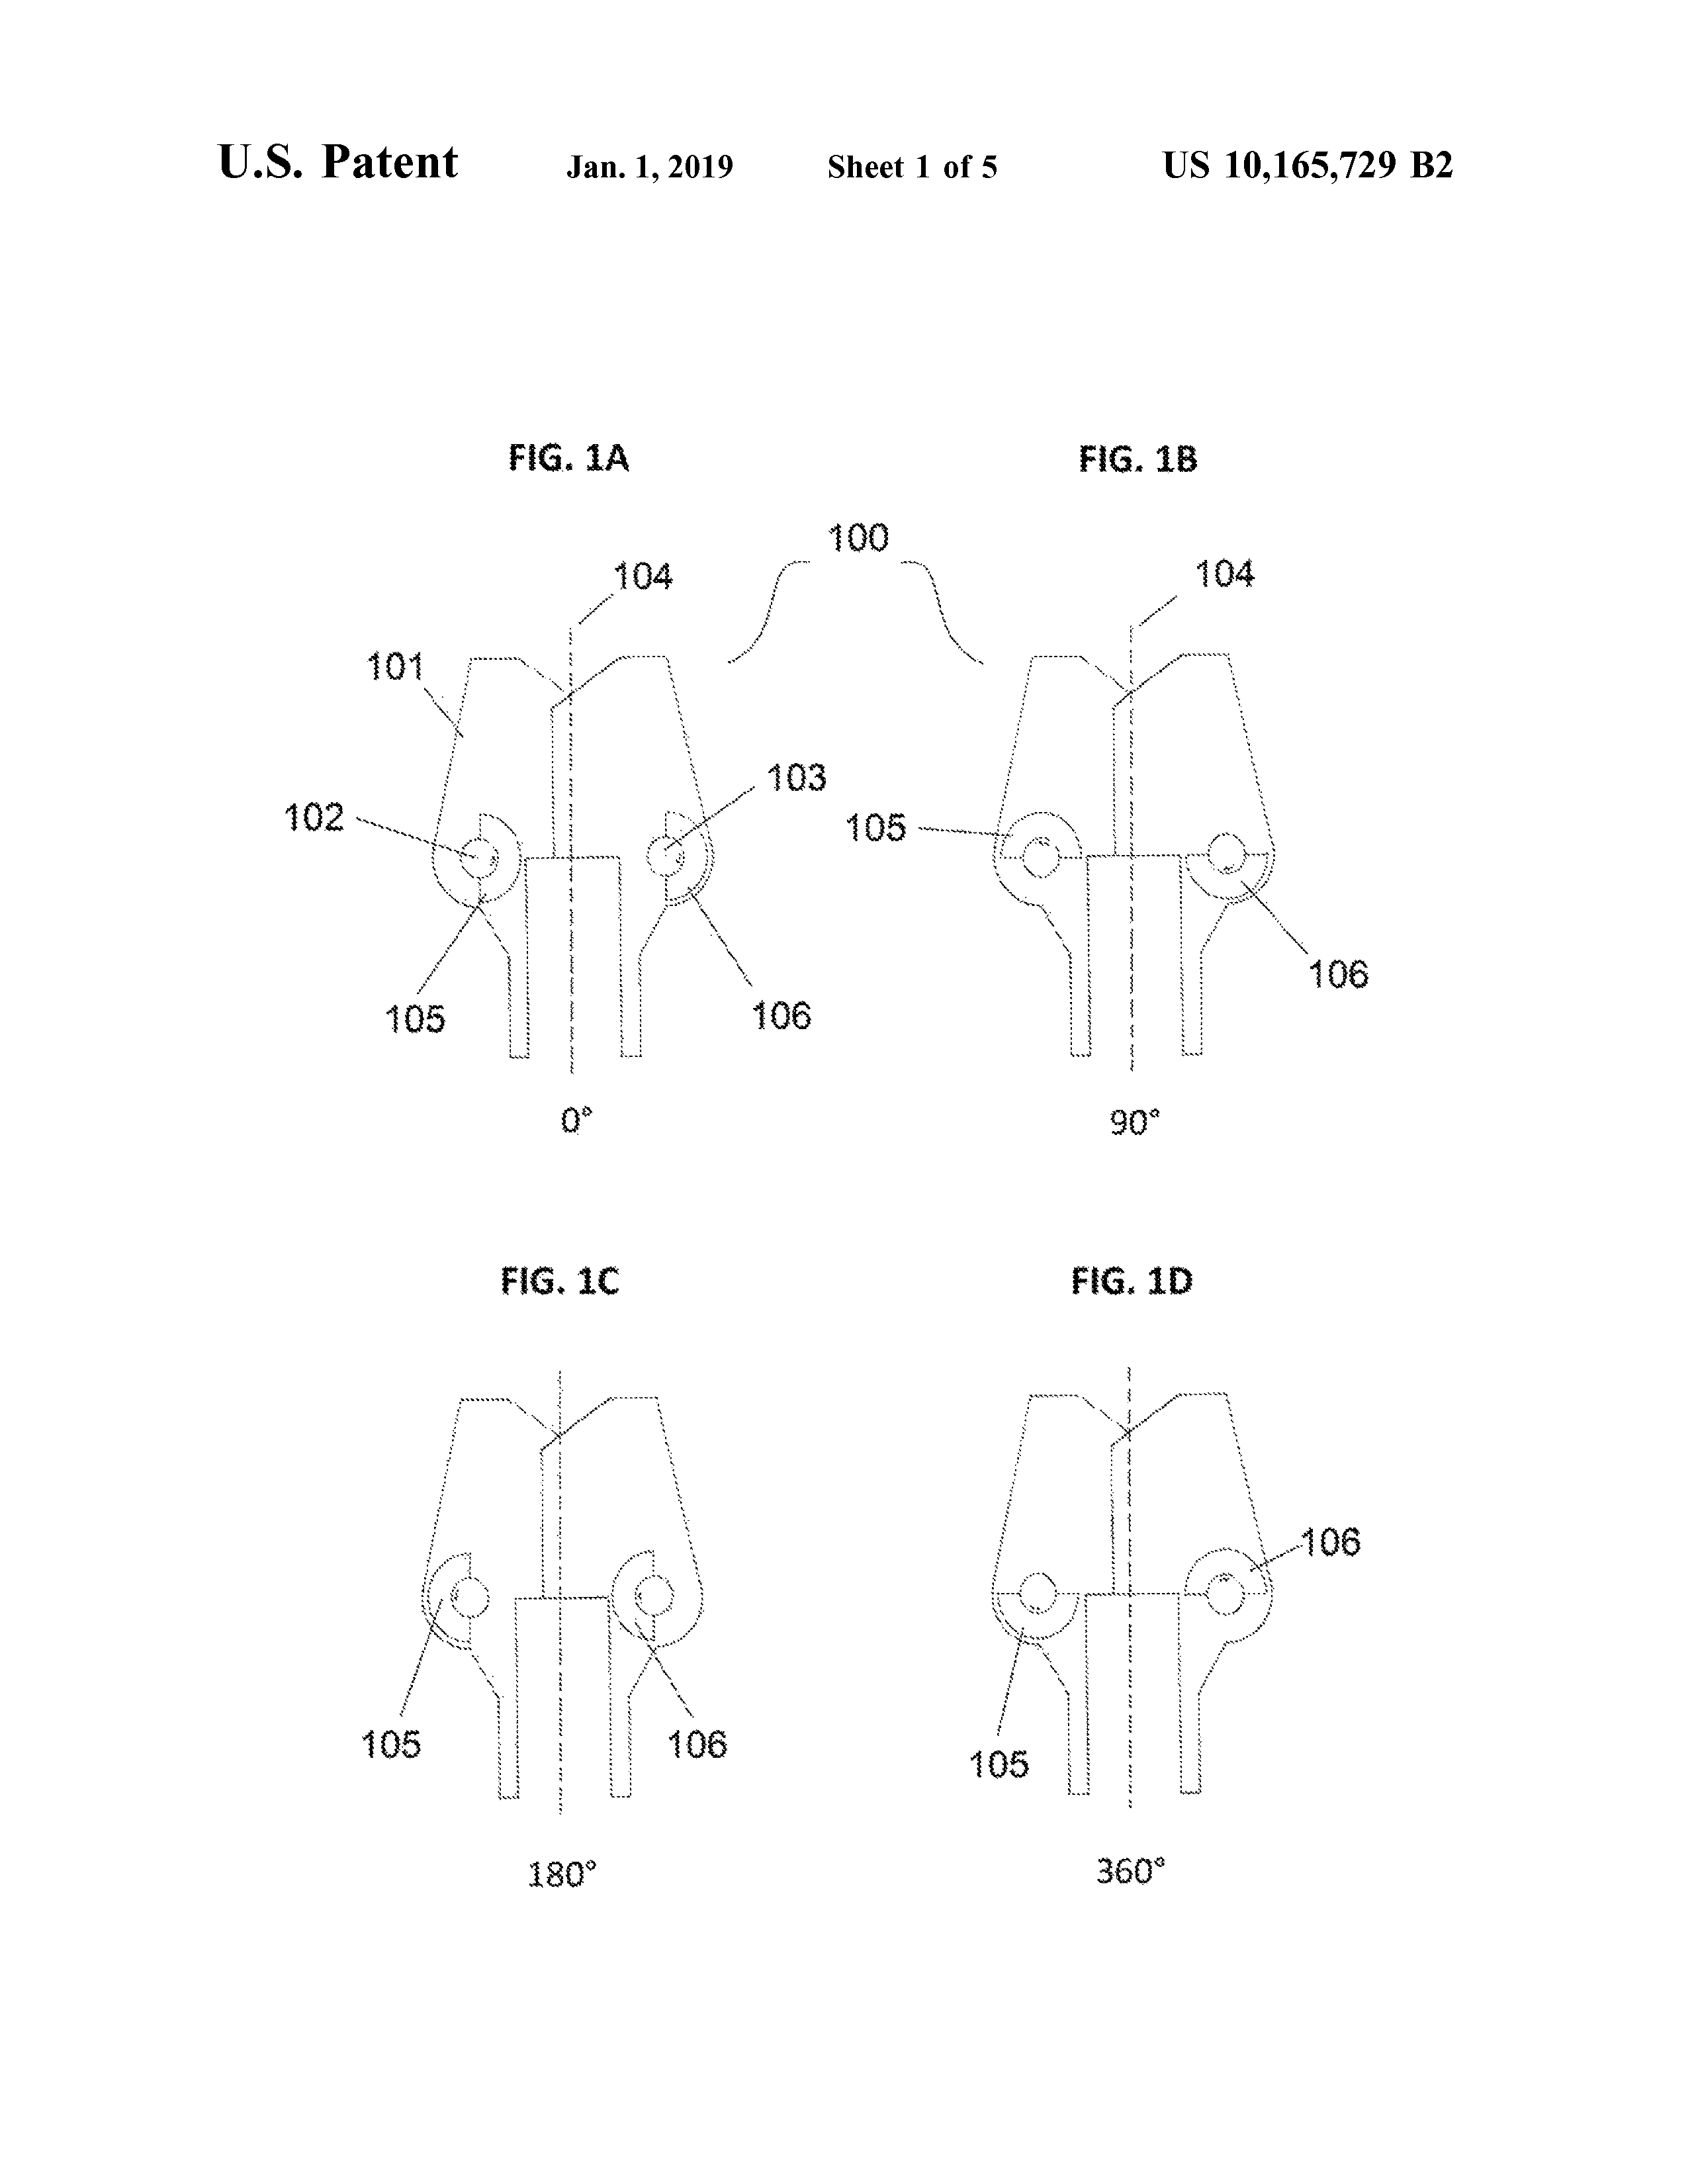patent image: (273, 408, 894, 1130), (831, 388, 1400, 1145), (940, 1246, 1369, 1899), (347, 1243, 756, 1911)
